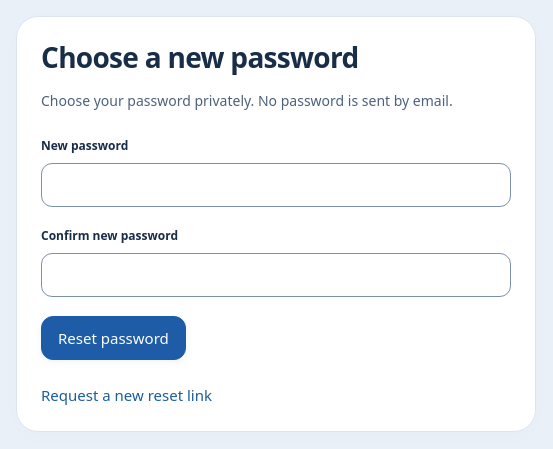
private password reset links › captures and removes a fragment under StrictMode, then resets without signing in or storing credentials
Type "synthetic-new-password" into the password field labelled "New password". click: point(276, 185)
box: [41,163,511,207]
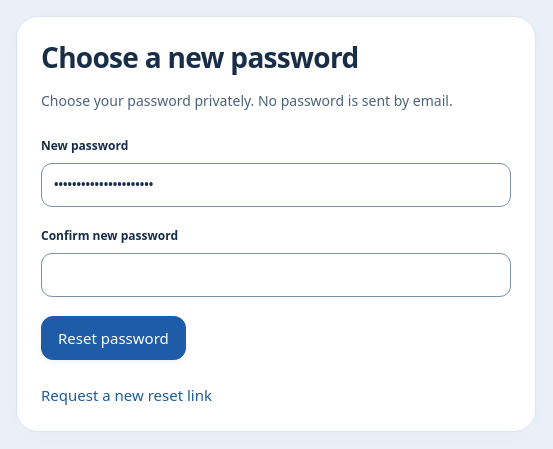
Type "synthetic-new-password" into the password field labelled "Confirm new password". click: point(276, 275)
box: [41,253,511,297]
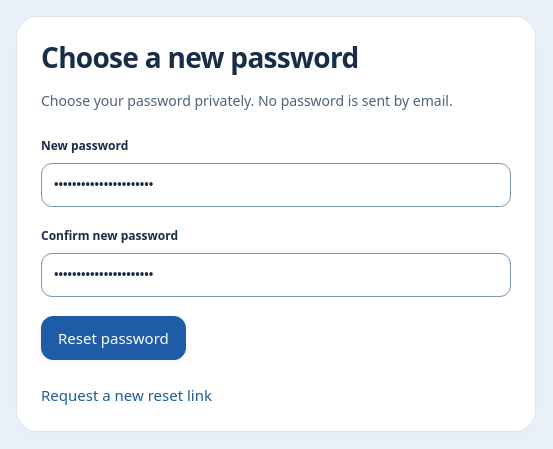
Click the button "Reset password". click: point(113, 338)
box: [41,316,186,360]
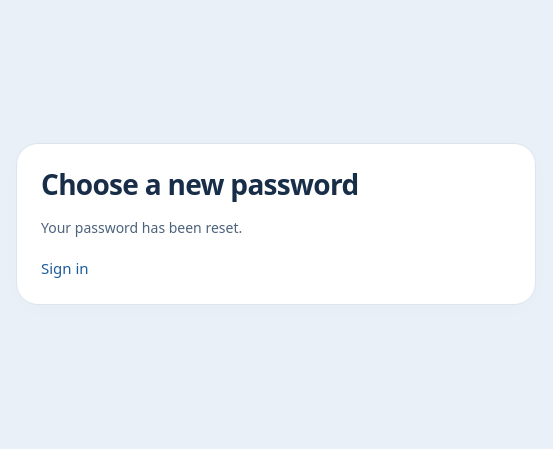
Now the text "Your password has been reset." is shown, box [41,218,242,237]
